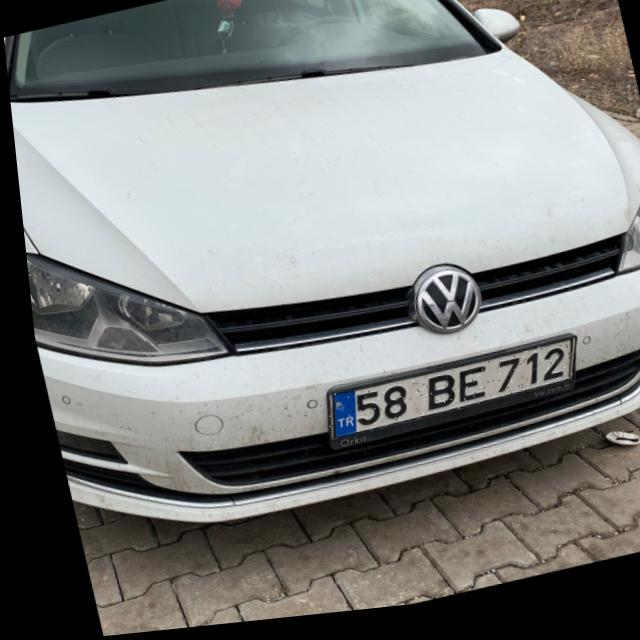license_plate: (311, 350, 576, 445)
